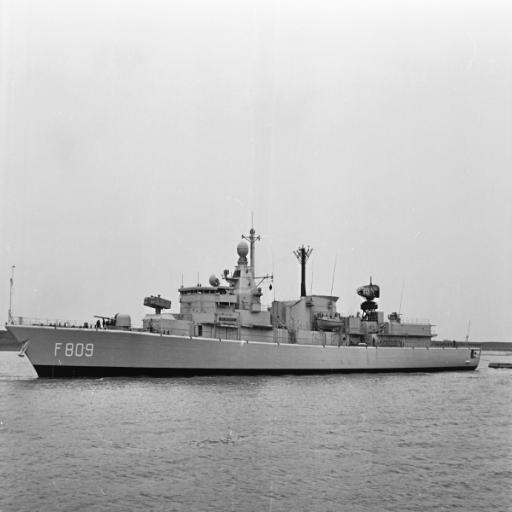Fragata: (9, 219, 489, 388)
